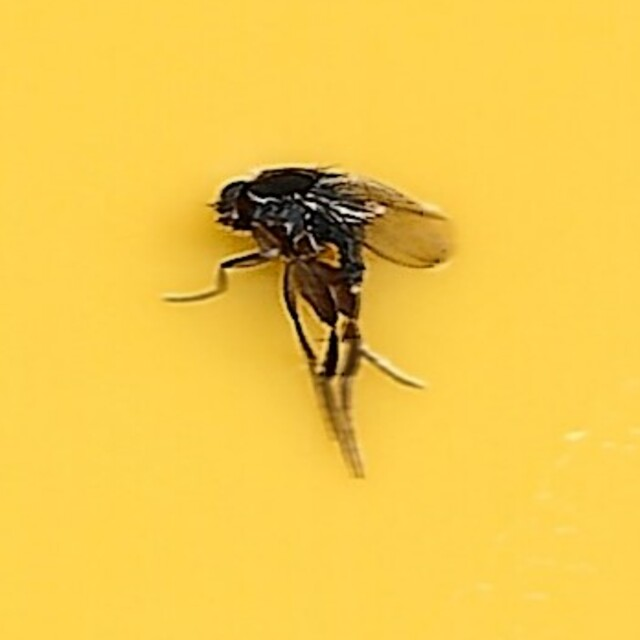Brachycera: (184, 165, 456, 475)
